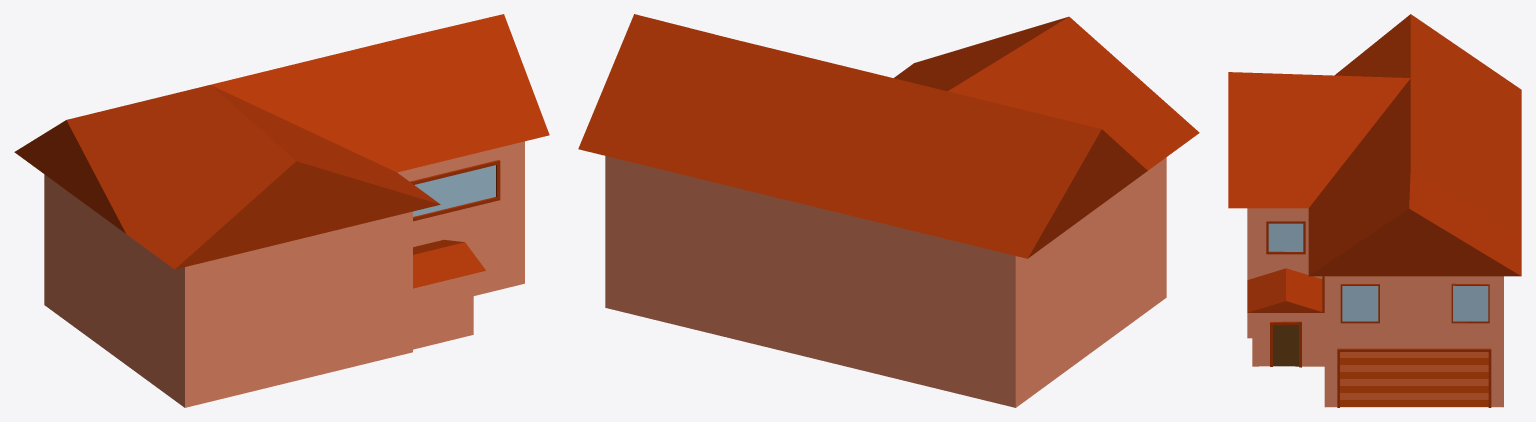
File: red residential building 2.fbx
3 views of the same model, side by side, from view 1: azimuth 30°, elevation 25°; view 2: azimuth 150°, elevation 25°; view 3: azimuth 270°, elevation 25° (orthographic). The views are drawn at different scales.
Parts seen in each view (by area): view 1: Cube; view 2: Cube; view 3: Cube.
Part boxes in pixels (x1=…): Cube: x1=14, y1=14, x2=549, y2=407; Cube: x1=578, y1=14, x2=1199, y2=407; Cube: x1=1228, y1=14, x2=1521, y2=407.
Bounding box in the file's own units: 1191 × 599 × 758.
